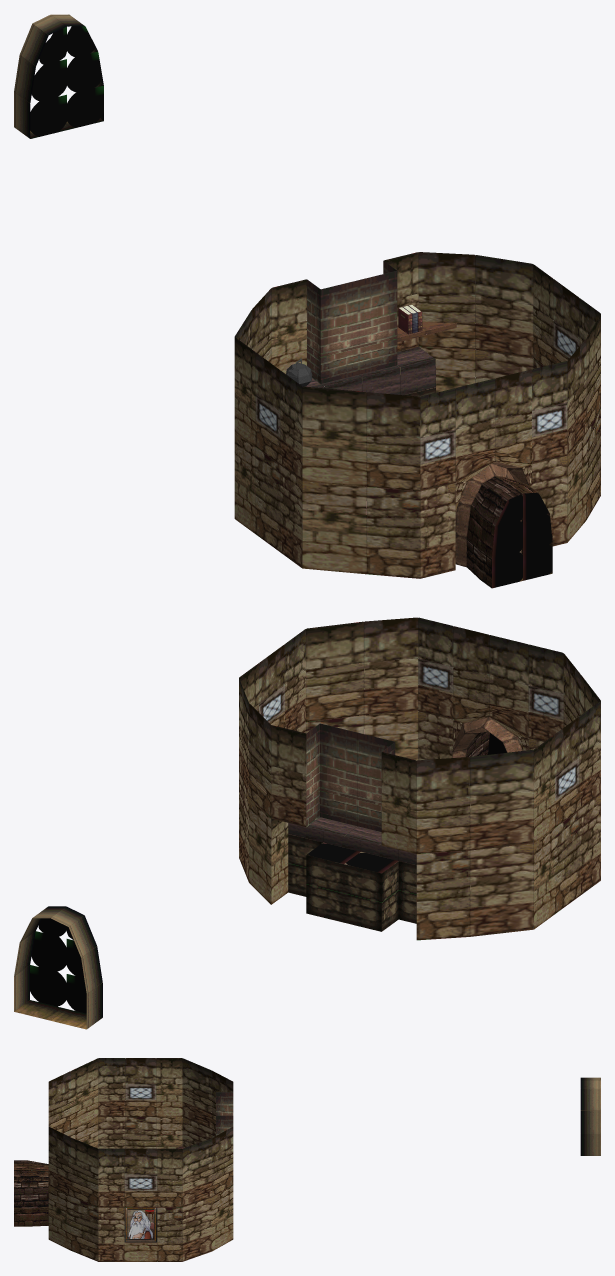
3 renders of one model, top to bottom at view 1: azimuth 30°, elevation 25°; view 2: azimuth 150°, elevation 25°; view 3: azimuth 270°, elevation 25°, orthographic. The views are drawn at different scales.
Visible parts, largest first — view 1: T1L8M002_21, T1L8M002_22, T1L8M002_8, T1L8M002_23, T1L8M002_0, T1L8M002_12, T1L8M002_13, T1L8M002_10, T1L8M002_25, T1L8M002_4, T1L8M002_2, T1L8M002_24 (+3 smaller); view 2: T1L8M002_6, T1L8M002_8, T1L8M002_22, T1L8M002_23, T1L8M002_0, T1L8M002_13, T1L8M002_2, T1L8M002_10, T1L8M002_24, T1L8M002_19, T1L8M002_4, T1L8M002_3 (+2 smaller); view 3: T1L8M002_19, T1L8M002_12, T1L8M002_13, T1L8M002_21, T1L8M002_24, T1L8M002_6, T1L8M002_23, T1L8M002_10, T1L8M002_4, T1L8M002_0, T1L8M002_22, T1L8M002_25 (+1 smaller).
Part boxes in pixels (x1,y1,x2,y2): T1L8M002_21: (302, 386, 420, 578); T1L8M002_22: (420, 369, 531, 579); T1L8M002_8: (305, 261, 400, 486); T1L8M002_23: (532, 339, 586, 546); T1L8M002_0: (14, 14, 103, 138); T1L8M002_12: (475, 255, 553, 382); T1L8M002_13: (255, 352, 302, 567); T1L8M002_10: (397, 252, 475, 396); T1L8M002_25: (480, 484, 552, 588); T1L8M002_4: (234, 337, 255, 533); T1L8M002_2: (271, 279, 306, 373); T1L8M002_24: (586, 314, 600, 519); T1L8M002_6: (416, 750, 533, 940); T1L8M002_8: (306, 723, 416, 931); T1L8M002_22: (452, 626, 563, 843); T1L8M002_23: (364, 617, 453, 760); T1L8M002_0: (14, 906, 102, 1029); T1L8M002_13: (555, 701, 600, 913); T1L8M002_2: (306, 752, 416, 931); T1L8M002_10: (249, 703, 323, 904); T1L8M002_24: (306, 621, 363, 733); T1L8M002_19: (259, 629, 305, 733); T1L8M002_4: (534, 734, 554, 929); T1L8M002_3: (256, 725, 306, 826); T1L8M002_19: (98, 1148, 157, 1261); T1L8M002_12: (157, 1138, 211, 1261); T1L8M002_13: (98, 1058, 156, 1148); T1L8M002_21: (48, 1058, 98, 1148); T1L8M002_24: (71, 1137, 98, 1261); T1L8M002_6: (182, 1058, 233, 1147); T1L8M002_23: (48, 1127, 70, 1250); T1L8M002_10: (212, 1127, 233, 1251); T1L8M002_4: (156, 1058, 182, 1148); T1L8M002_0: (580, 1077, 600, 1155); T1L8M002_22: (28, 1160, 48, 1226); T1L8M002_25: (14, 1160, 28, 1226).
Size of the model in its own units: 13.19 by 9.38 by 36.12.
Materials: 1 (1 with a texture image).
